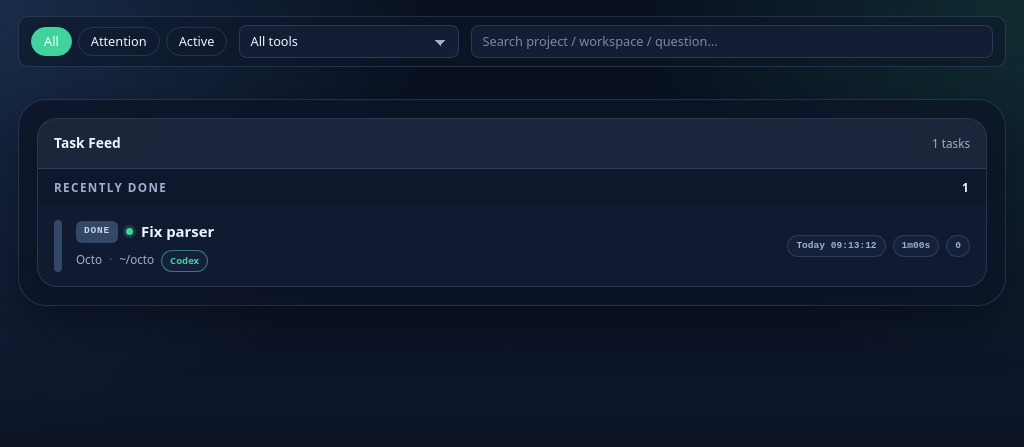
Test: MonitorView task feed › marks completed rows as visited and removes the unread dot on click
Check: the element with class "session-unvisited-dot" is shown, box [126,228,133,235]
What coordinates should you click on to do the following:
click the button "Fix parser"
I would click on:
 (97, 232)
Its box is [38,206,986,286].
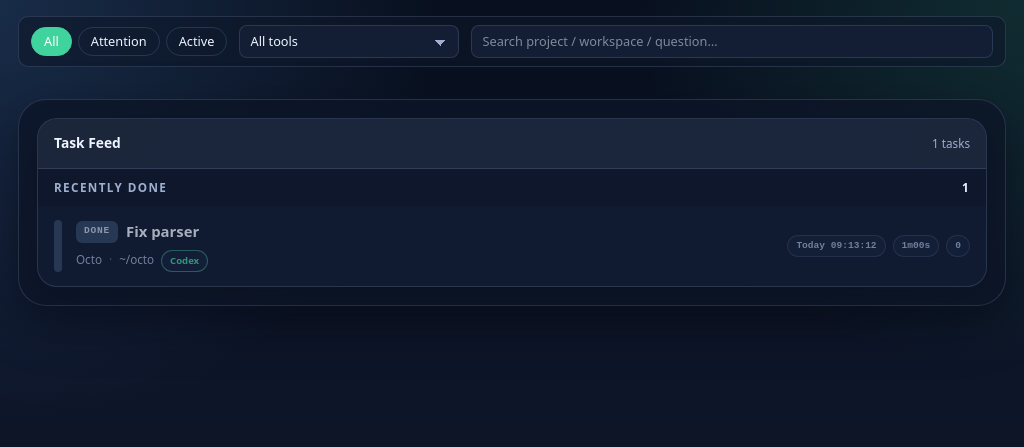
Check: the element with class "session-unvisited-dot" is gone
